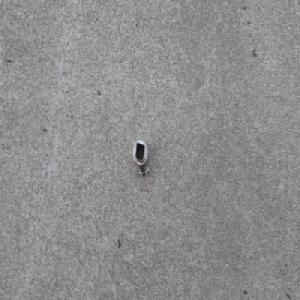MetalPart: (132, 138, 150, 179)
